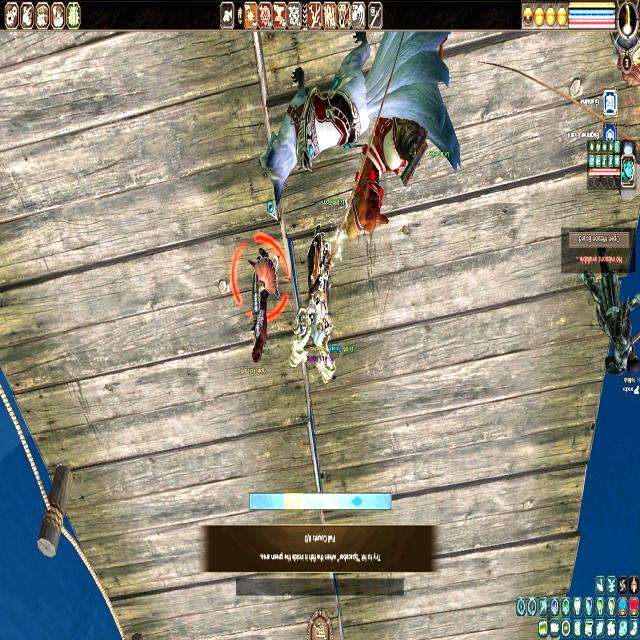fishes: (351, 496, 363, 508)
